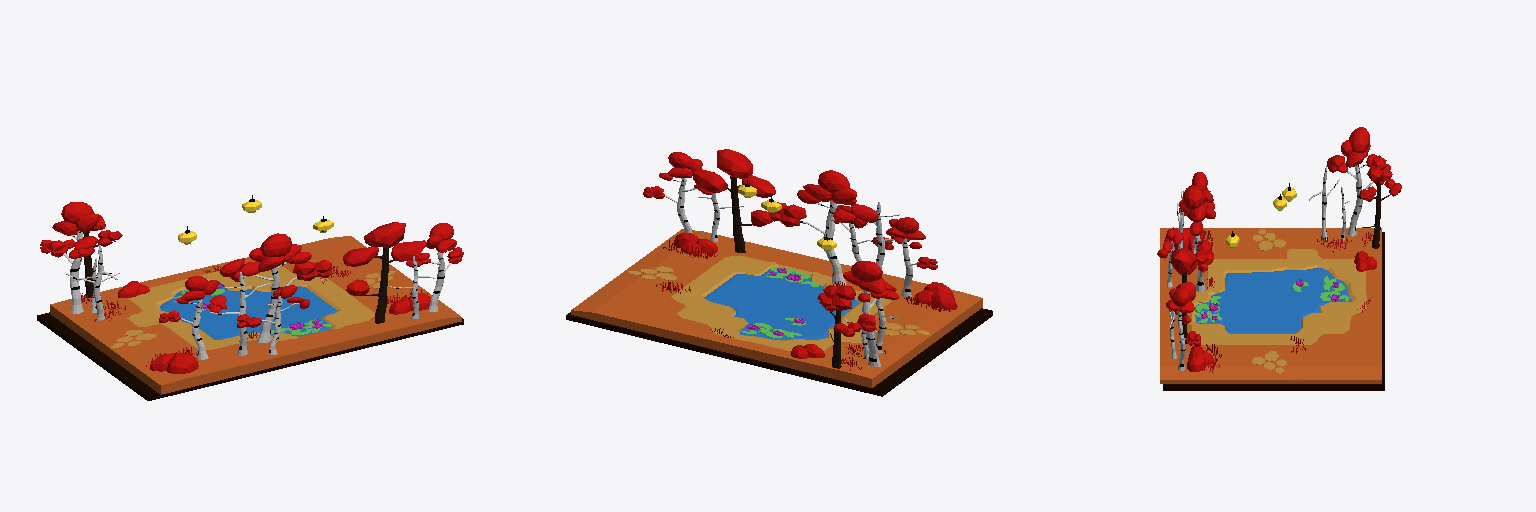
The model's file is jardin.obj.
The picture shows the model from 3 angles: view 1: azimuth 30°, elevation 25°; view 2: azimuth 150°, elevation 25°; view 3: azimuth 270°, elevation 25°; orthographic projection.
Visible parts, largest first — view 1: jardinmasgrande:Mesh; view 2: jardinmasgrande:Mesh; view 3: jardinmasgrande:Mesh.
Part boxes in pixels (x1,y1,x2,y2): jardinmasgrande:Mesh: (37, 195, 463, 400); jardinmasgrande:Mesh: (566, 149, 992, 396); jardinmasgrande:Mesh: (1157, 127, 1401, 390).
Size of the model in its own units: 74.29 by 26.36 by 47.32.